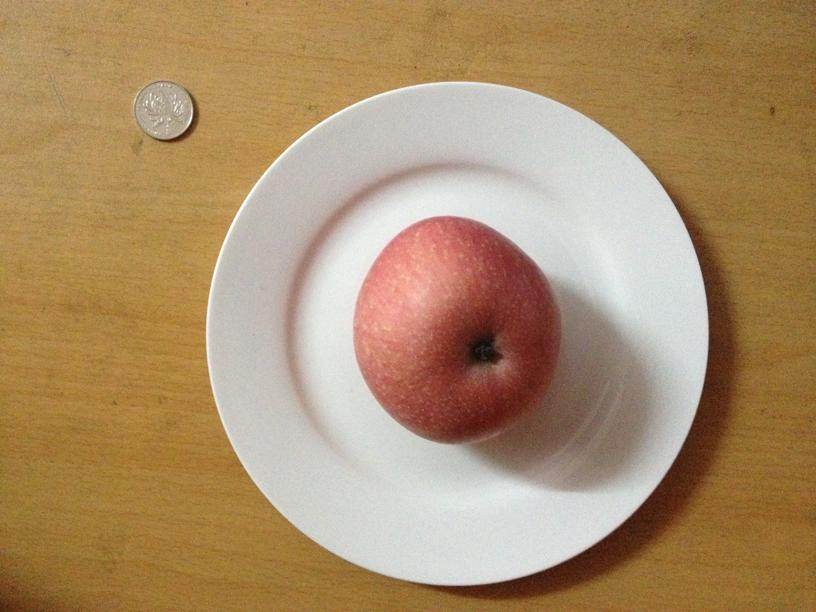apple: (349, 216, 559, 445)
coin: (134, 82, 196, 140)
